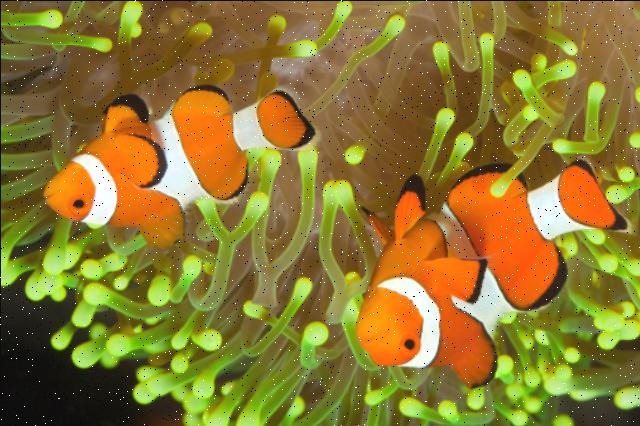Mulut: (334, 316, 406, 364), (22, 162, 72, 212)
Sirip Anal: (432, 160, 532, 210), (162, 74, 236, 124)
Sirip Dada: (427, 249, 495, 312), (114, 125, 172, 195)
Sirip Ekor: (546, 138, 638, 250), (249, 79, 323, 161)
Sirip Perut: (350, 170, 432, 250), (88, 90, 162, 148)
Sirip Punggung: (442, 236, 576, 402), (126, 157, 256, 267)
